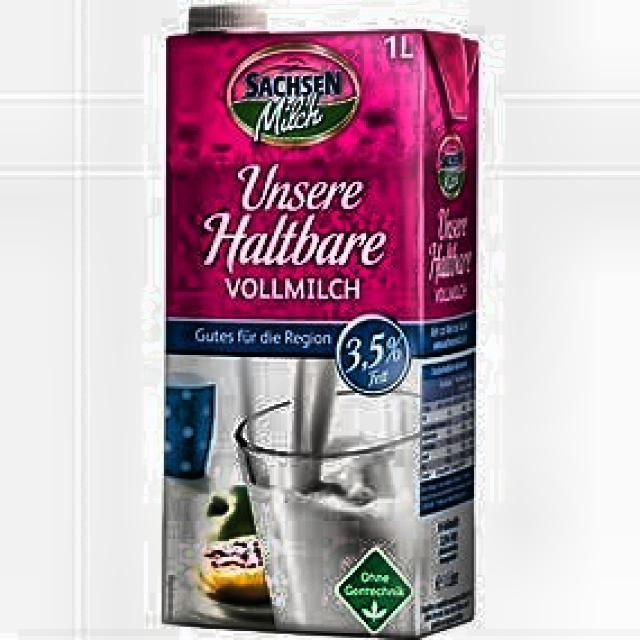cardboard: (162, 22, 480, 638)
